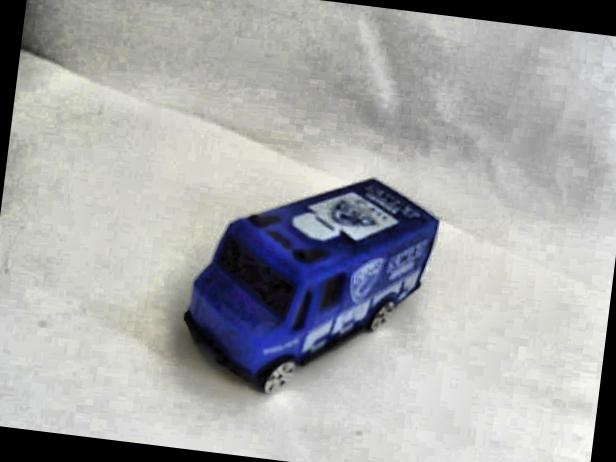police car: (178, 150, 452, 418)
